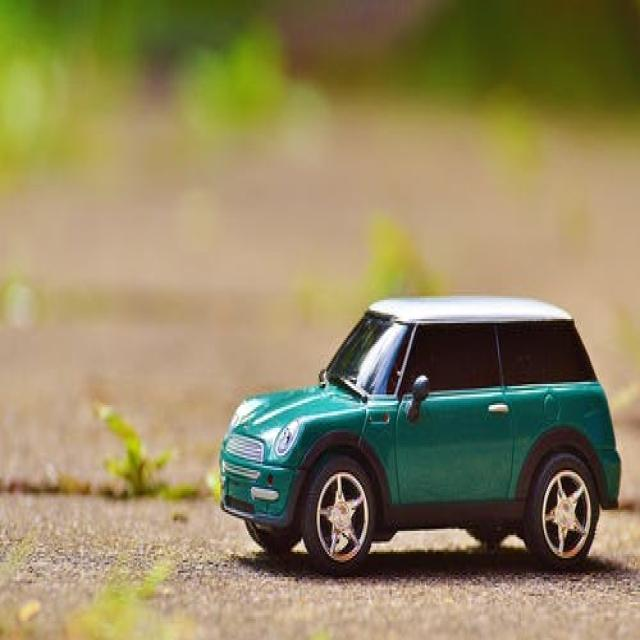Car: (218, 294, 622, 577)
